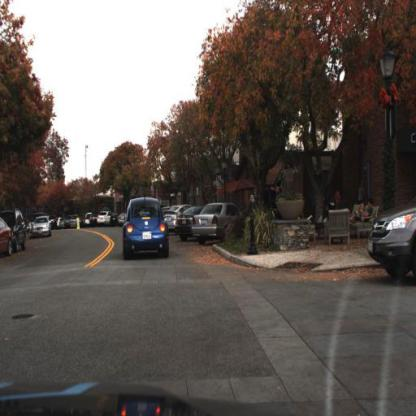car: (366, 203, 416, 282), (120, 190, 170, 263), (192, 203, 247, 246), (5, 206, 29, 253), (176, 206, 203, 244), (2, 215, 16, 260), (164, 205, 182, 236), (32, 216, 54, 239), (98, 211, 111, 228)
pedestrian: (347, 200, 377, 227), (328, 183, 337, 219), (358, 177, 367, 209), (249, 191, 256, 215), (336, 187, 344, 205)
